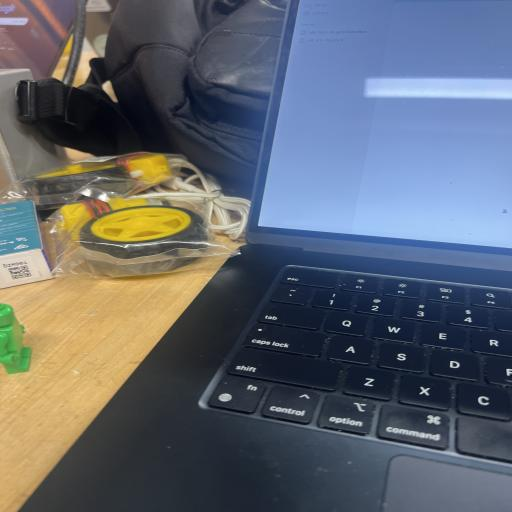green-lego-minifigure-detector: (0, 304, 31, 374)
